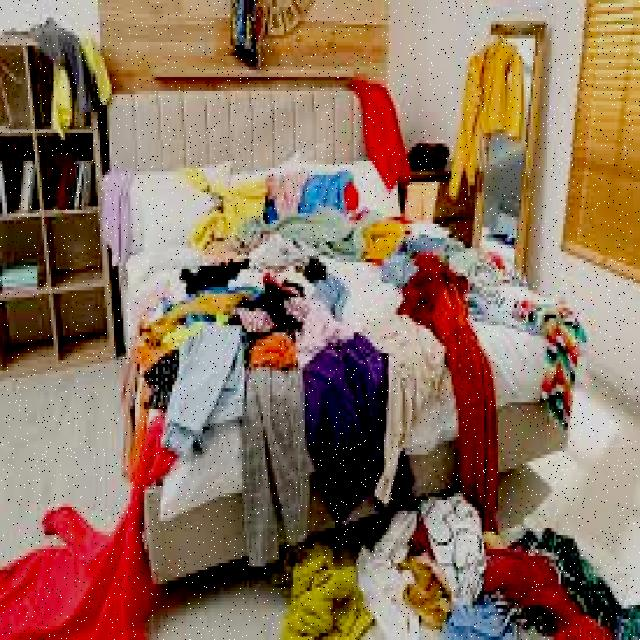bed: (126, 135, 570, 495)
